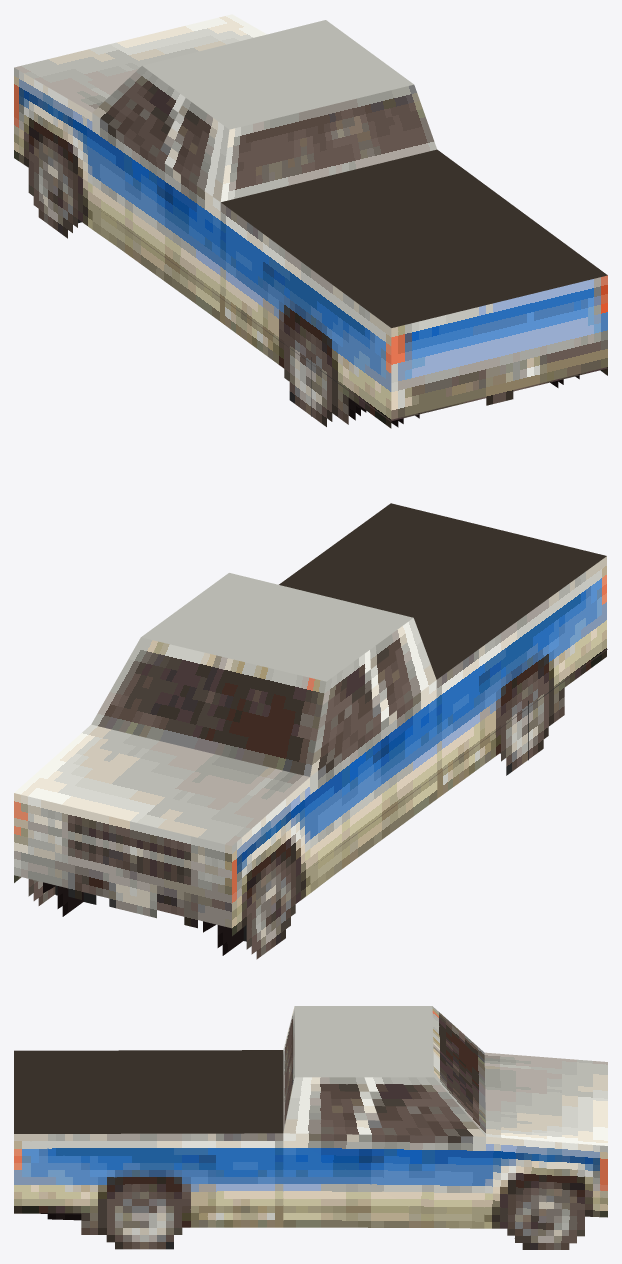
The model's file is car-pickup.glb.
The picture shows the model from 3 angles, top to bottom: view 1: azimuth 30°, elevation 25°; view 2: azimuth 150°, elevation 25°; view 3: azimuth 270°, elevation 25°; orthographic projection. The views are drawn at different scales.
Parts seen in each view (by area): view 1: plt0; view 2: plt0; view 3: plt0.
Part boxes in pixels (x1,y1,x2,y2): plt0: (14, 14, 607, 428); plt0: (14, 503, 607, 959); plt0: (14, 1006, 607, 1249).
Bounding box in the file's own units: 1.94 × 1.79 × 5.79.
15 materials, 15 textured.
